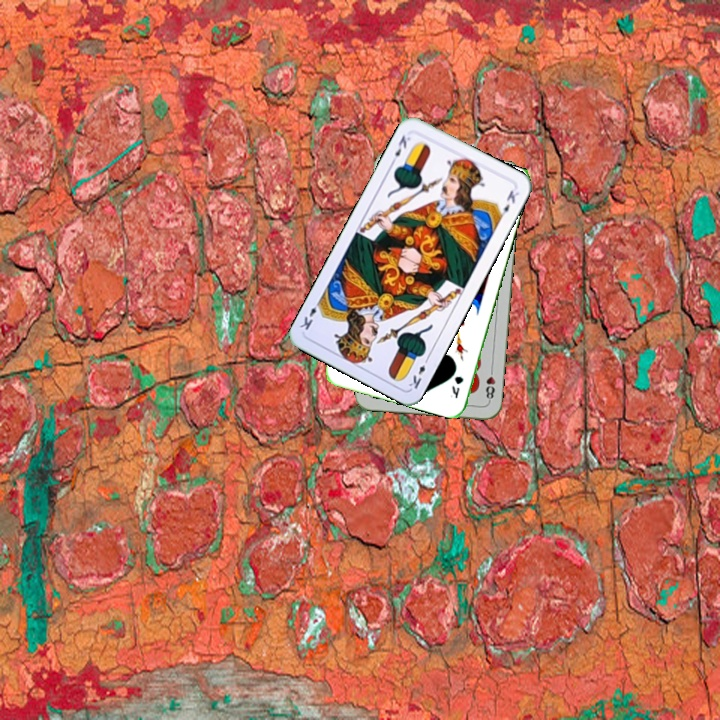EK: (405, 353, 432, 391), (387, 131, 413, 167)
GK: (448, 372, 466, 400)
H8: (482, 364, 498, 404)
